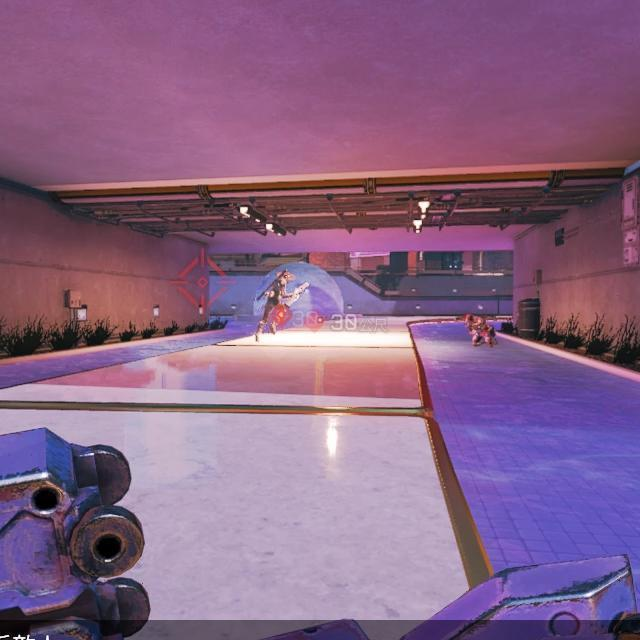avatar: (253, 269, 295, 344)
